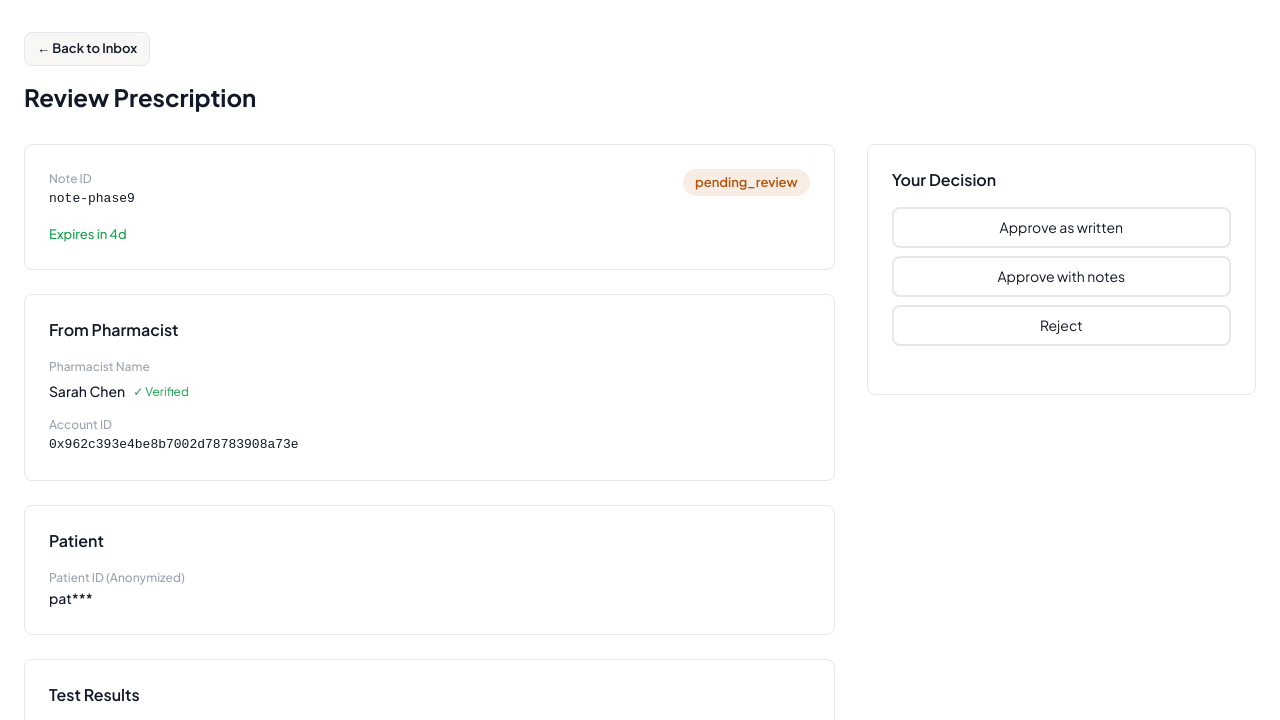
Scenario: Phase 9: Final integration › shows approval transaction details after doctor approval
Click the button "Approve as written" at (1061, 227), box [892,206,1231,248]
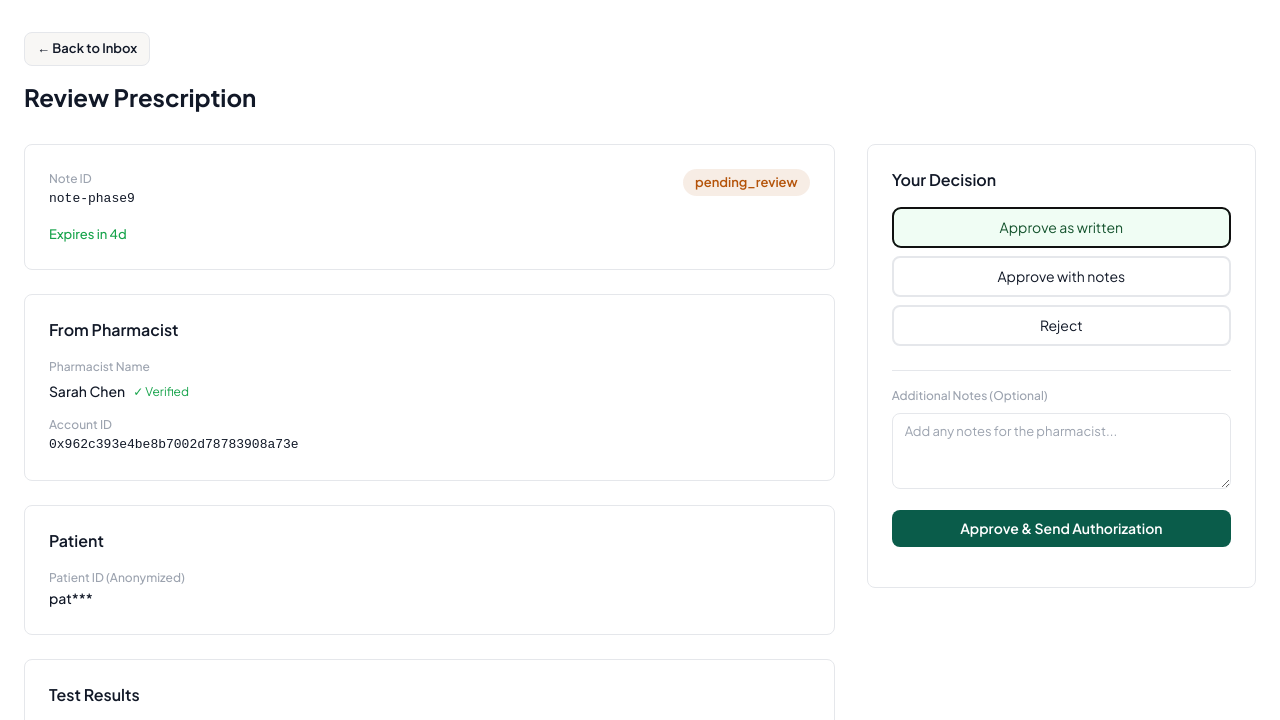
Click the button "Approve & Send Authorization" at (1061, 528), box [892,510,1231,547]
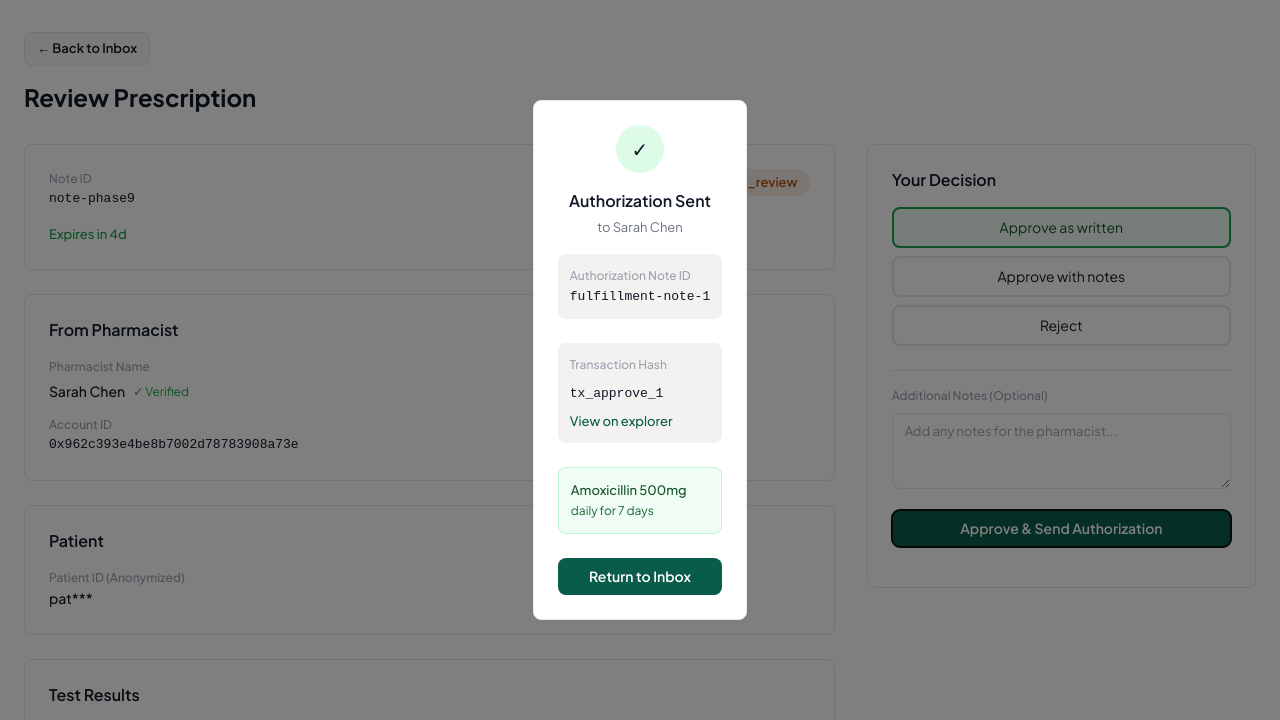
Now the heading "Authorization Sent" is shown, box [558,189,722,213]
Now the text "tx_approve_1" is shown, box [570,386,663,400]
